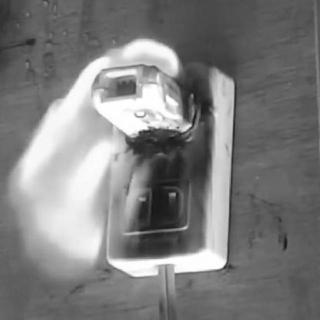Fire: (10, 39, 189, 297)
